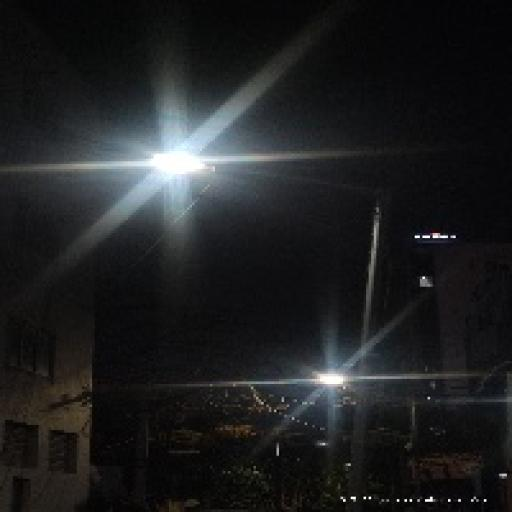Working: (144, 141, 218, 186), (306, 364, 353, 395)
